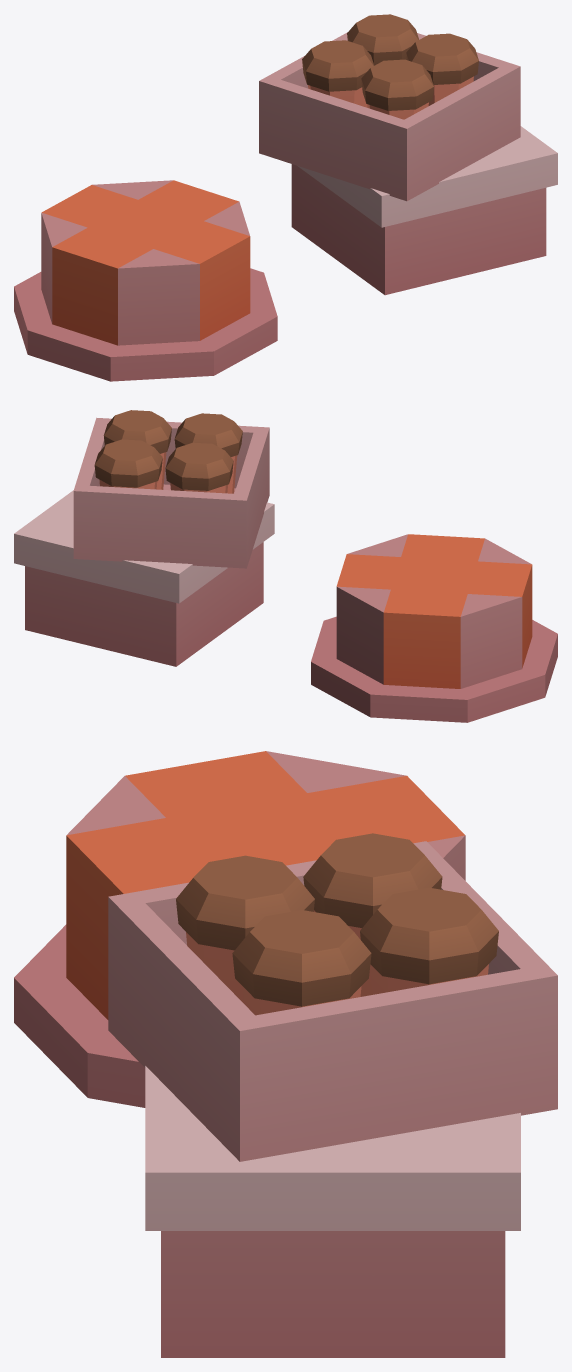
File: boxes with cakes.fbx
The picture shows the model from 3 angles, top to bottom: view 1: azimuth 30°, elevation 25°; view 2: azimuth 150°, elevation 25°; view 3: azimuth 270°, elevation 25°; orthographic projection. The views are drawn at different scales.
Parts seen in each view (by area): view 1: boxes_with_cakes; view 2: boxes_with_cakes; view 3: boxes_with_cakes.
Part boxes in pixels (x1=…): boxes_with_cakes: x1=14, y1=14, x2=557, y2=381; boxes_with_cakes: x1=14, y1=410, x2=557, y2=722; boxes_with_cakes: x1=14, y1=751, x2=557, y2=1357.
Bounding box in the file's own units: 421 × 161 × 216.
1 material, 1 textured.
